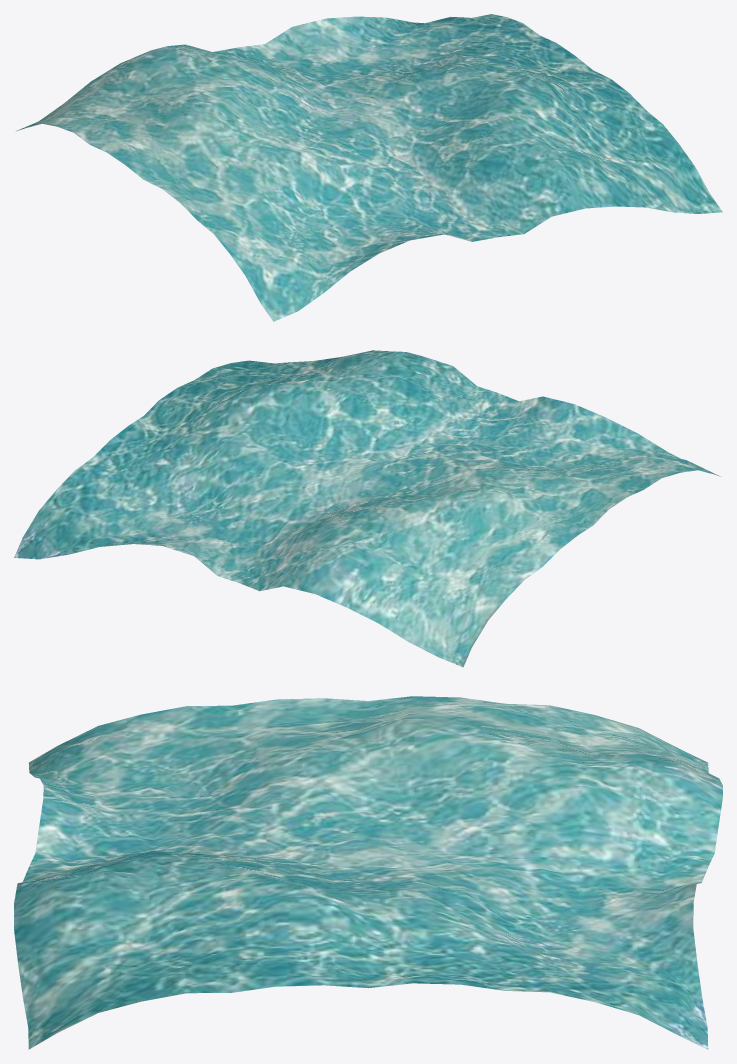
Rendered from water_000121.obj.
3 views of the same model, one above another, from view 1: azimuth 30°, elevation 25°; view 2: azimuth 150°, elevation 25°; view 3: azimuth 270°, elevation 25° (orthographic). The views are drawn at different scales.
Parts seen in each view (by area): view 1: Plan.003_Plan.001; view 2: Plan.003_Plan.001; view 3: Plan.003_Plan.001.
Boxes of the visible parts, x1,y1,x2,y2 form: Plan.003_Plan.001: (16,14,722,321); Plan.003_Plan.001: (14,350,720,667); Plan.003_Plan.001: (14,696,722,1049).
Bounding box in the file's own units: 60953 × 9344 × 62960.
Materials: 1 (1 with a texture image).
